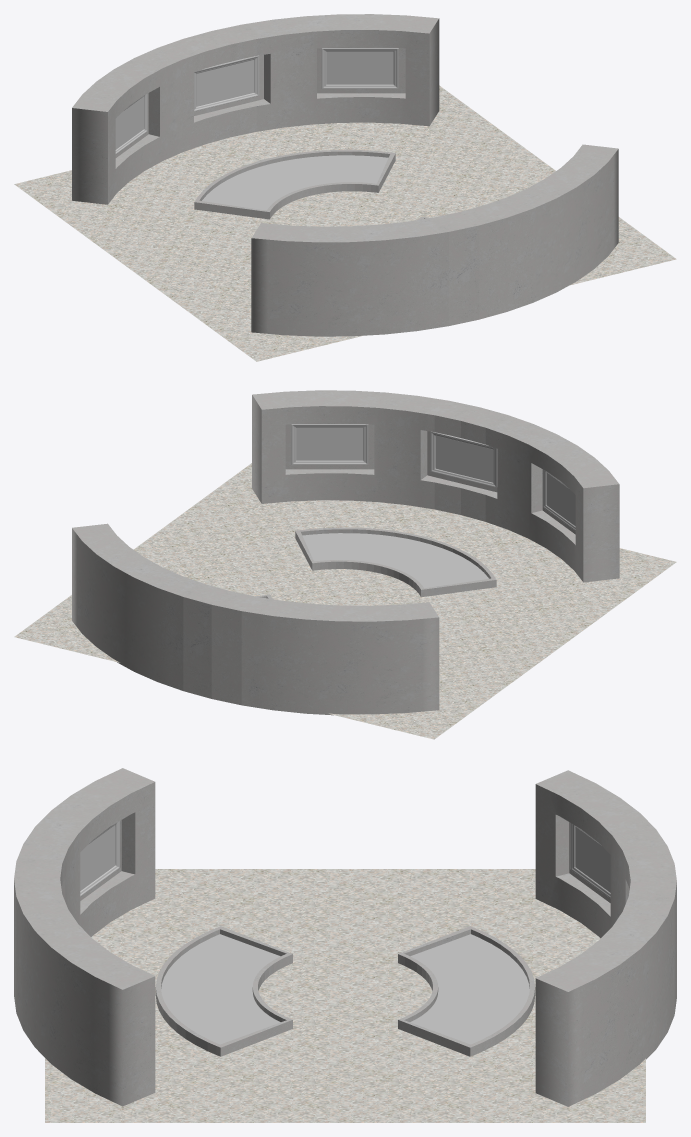
Rendered from hall.gltf.
3 renders of one model, top to bottom at view 1: azimuth 30°, elevation 25°; view 2: azimuth 150°, elevation 25°; view 3: azimuth 270°, elevation 25°, orthographic. The views are drawn at different scales.
Parts seen in each view (by area): view 1: Floor, Wall1, Wall2, Garden2, W2Frame3, W2Frame2, W2Frame1; view 2: Floor, Wall2, Wall1, Garden1, W1Frame1, W1Frame2, W1Frame3; view 3: Floor, Wall1, Wall2, Garden2, Garden1, W1Frame3, W2Frame1.
Boxes of the visible parts, x1,y1,x2,y2 form: Floor: [14, 85, 676, 361]; Wall1: [251, 144, 618, 336]; Wall2: [72, 14, 439, 204]; Garden2: [194, 149, 395, 219]; W2Frame3: [321, 48, 398, 88]; W2Frame2: [194, 55, 259, 111]; W2Frame1: [115, 93, 147, 154]; Floor: [14, 463, 676, 739]; Wall2: [72, 523, 439, 715]; Wall1: [252, 390, 619, 582]; Garden1: [295, 527, 496, 597]; W1Frame1: [291, 424, 368, 464]; W1Frame2: [430, 431, 497, 487]; W1Frame3: [542, 469, 575, 530]; Floor: [45, 869, 645, 1122]; Wall1: [14, 768, 155, 1106]; Wall2: [535, 770, 676, 1106]; Garden2: [398, 926, 535, 1056]; Garden1: [155, 926, 292, 1056]; W1Frame3: [80, 821, 120, 896]; W2Frame1: [570, 823, 610, 898].
Size of the model in its own units: 26 by 5.66 by 28.69.
